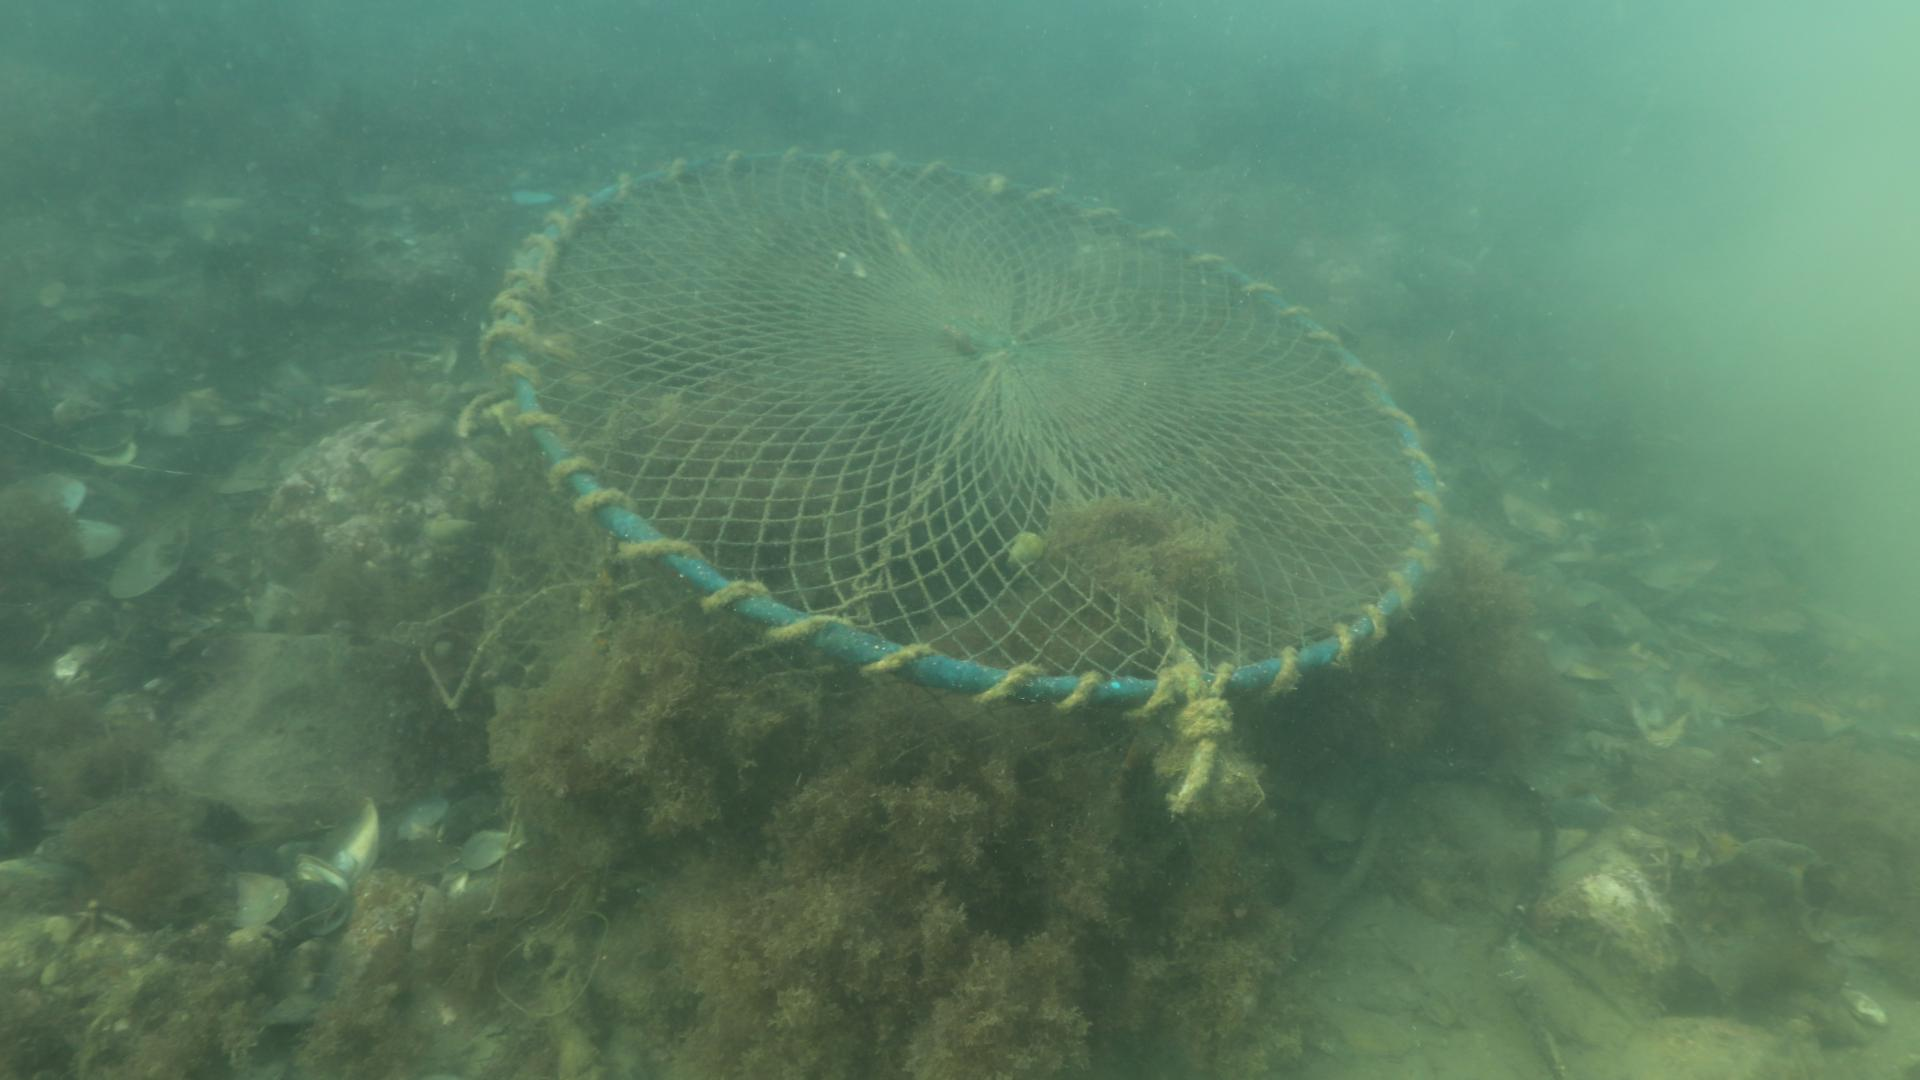circular fish trap: (487, 145, 1451, 785)
